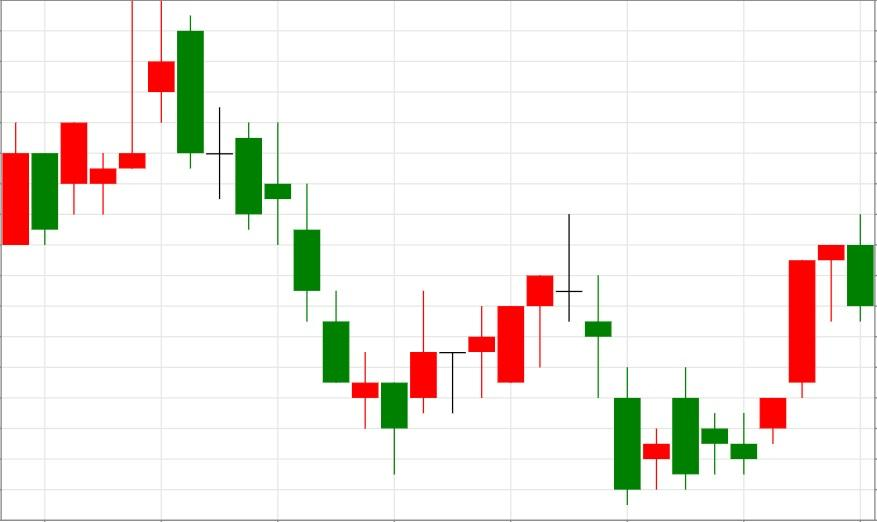hanging_man_fall: (380, 274, 554, 474)
